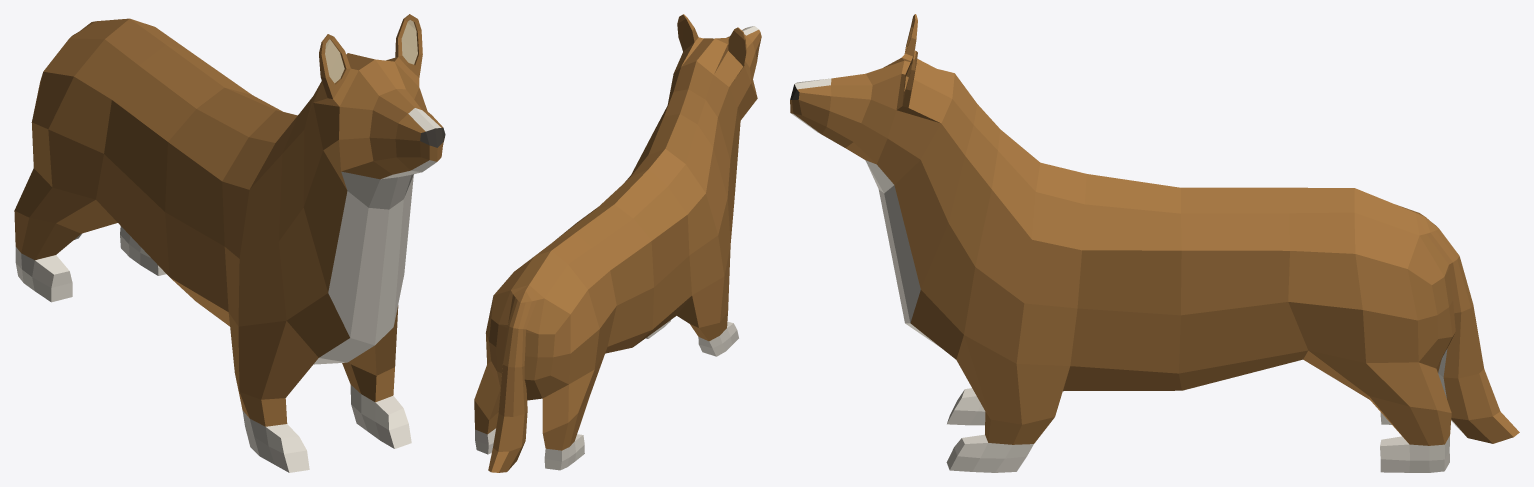
Rendered from Corgi.glb.
3 views of the same model, side by side, from view 1: azimuth 30°, elevation 25°; view 2: azimuth 150°, elevation 25°; view 3: azimuth 270°, elevation 25° (orthographic). The views are drawn at different scales.
Parts seen in each view (by area): view 1: 14dogFinal; view 2: 14dogFinal; view 3: 14dogFinal.
Boxes of the visible parts, left/top/right/bottom form: 14dogFinal: left=14, top=14, right=445, bottom=472; 14dogFinal: left=474, top=14, right=761, bottom=472; 14dogFinal: left=790, top=14, right=1519, bottom=472.
Size of the model in its own units: 0.2972 by 0.8255 by 1.33.
1 material, 1 textured.
